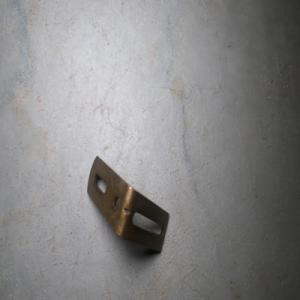MetalPart: (86, 154, 170, 254)
